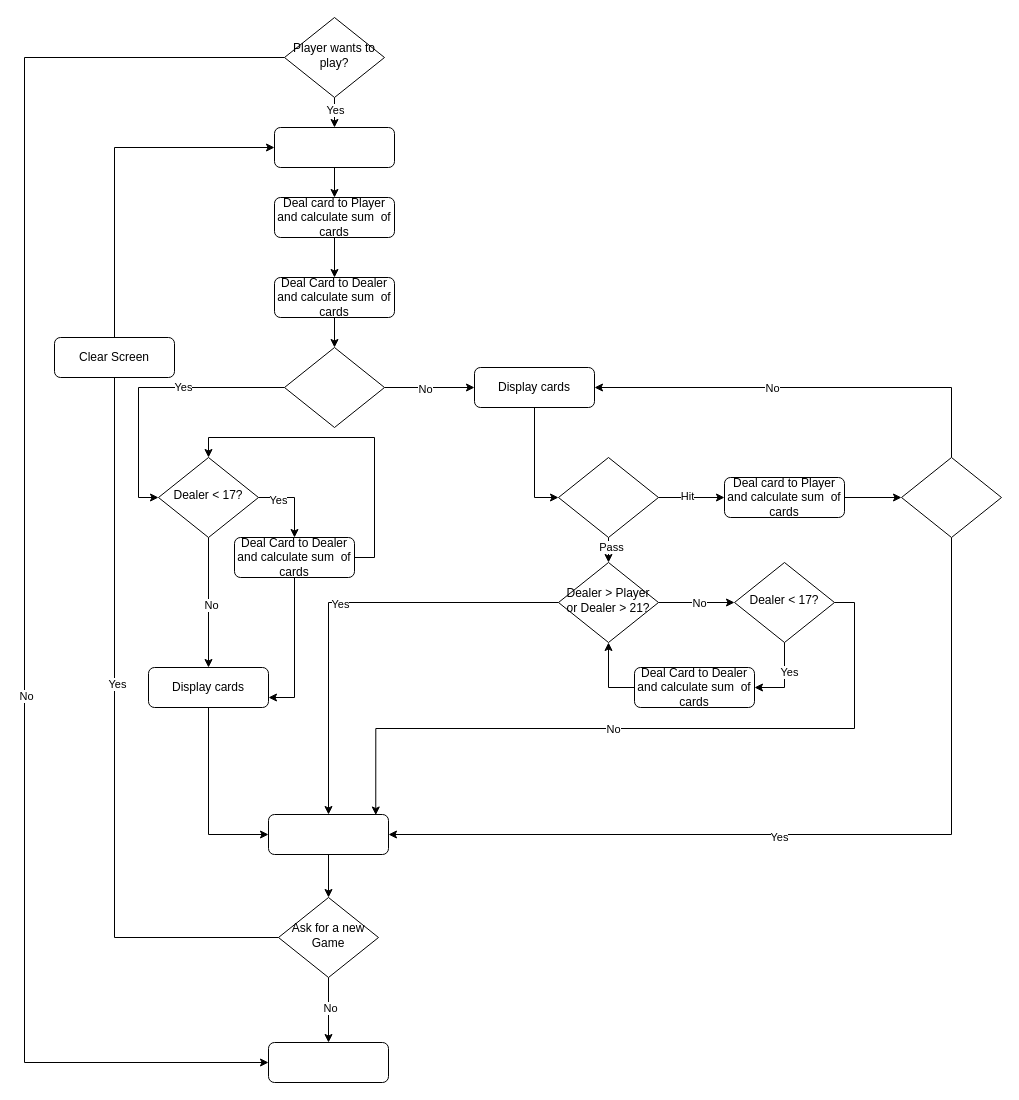
Some shapes in this 1019 by 1100 pixel diagram are drawn without their labels. Each missing label, with the centre of its shape:
"Display logo" belongs at (x=334, y=147).
"Exit Game" belongs at (x=328, y=1062).
"Hit or pass" belongs at (x=608, y=497).
"Player >= 21?" belongs at (x=951, y=497).
"Player has 21 or Dealer has 21?" belongs at (x=334, y=387).
"Show Result" belongs at (x=328, y=834).
